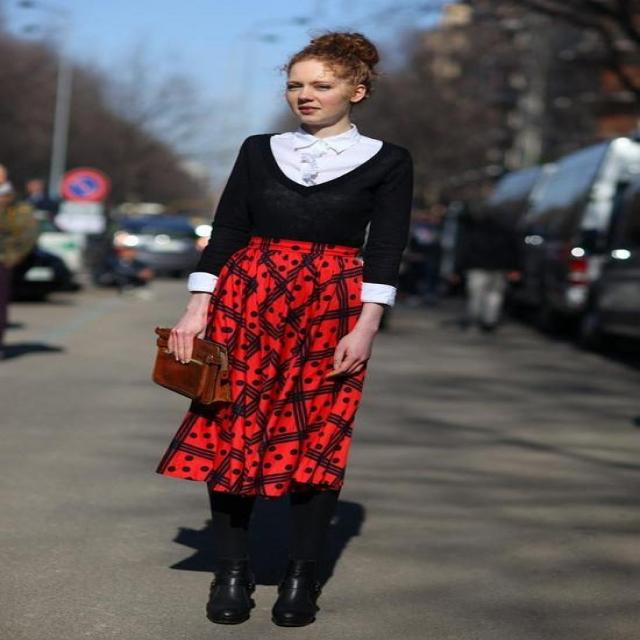skirt: (154, 236, 366, 498)
sweater: (185, 121, 411, 302)
